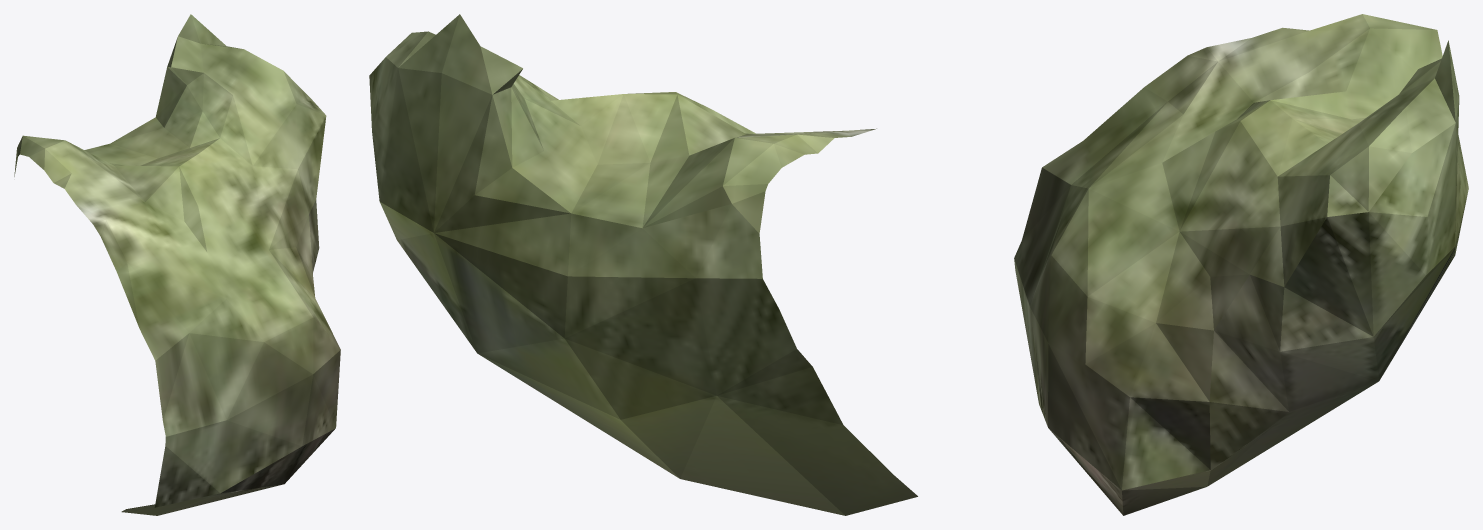
3 views of the same model, side by side, from view 1: azimuth 30°, elevation 25°; view 2: azimuth 150°, elevation 25°; view 3: azimuth 270°, elevation 25° (orthographic). The views are drawn at different scales.
Size of the model in its own units: 0.8317 by 1.09 by 0.8833.
1 material, 1 textured.
